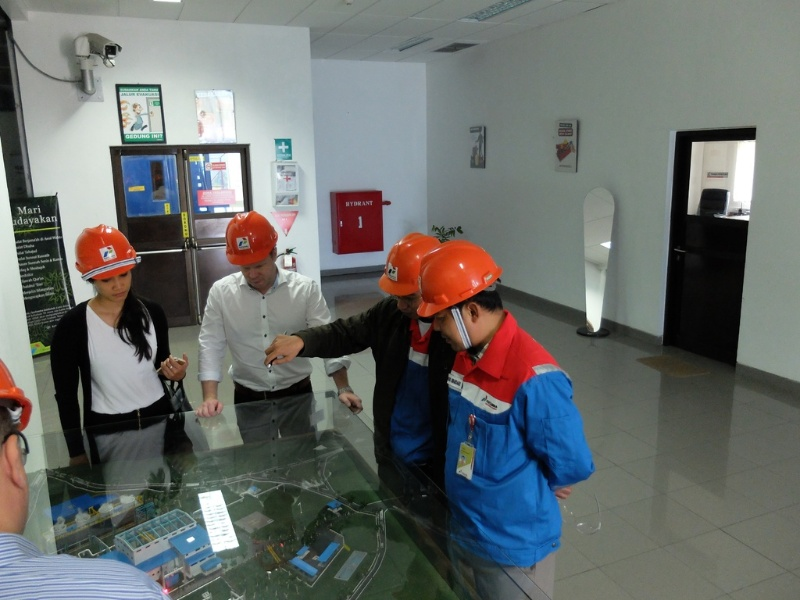Baret: (418, 241, 504, 324), (71, 225, 142, 278), (223, 213, 279, 264)
